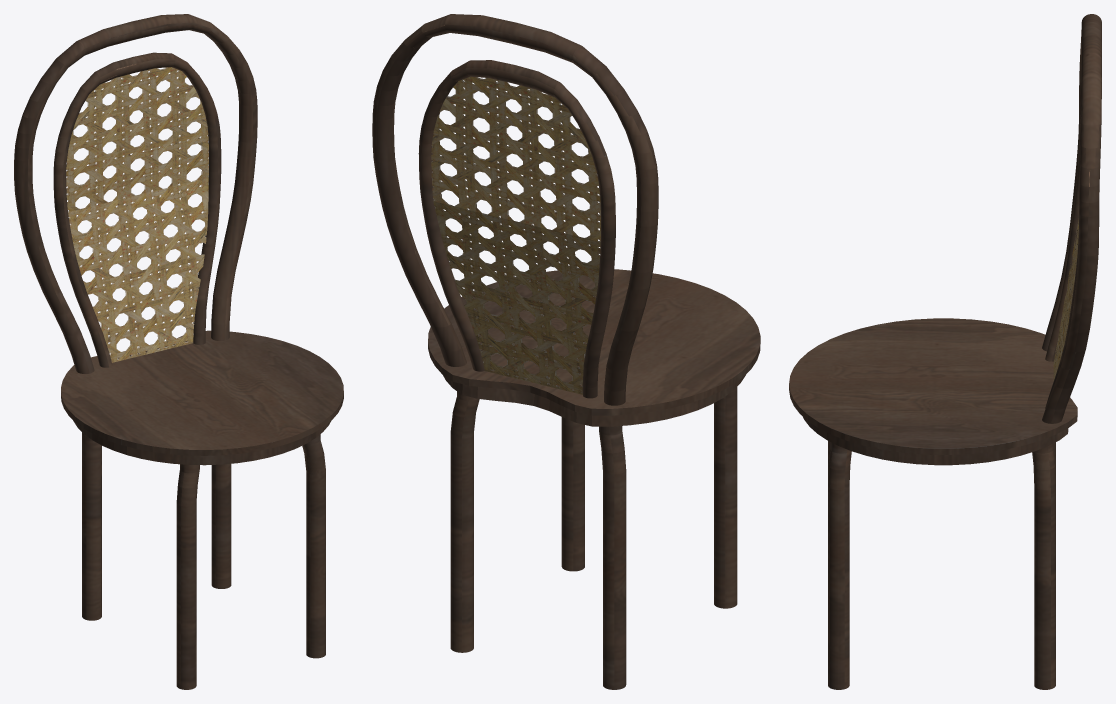
Rendered from barchair.fbx.
The picture shows the model from 3 angles, left to right: view 1: azimuth 30°, elevation 25°; view 2: azimuth 150°, elevation 25°; view 3: azimuth 270°, elevation 25°; orthographic projection. The views are drawn at different scales.
Parts seen in each view (by area): view 1: Base; view 2: Base; view 3: Base.
Boxes of the visible parts, x1,y1,x2,y2 form: Base: (14, 14, 343, 689); Base: (372, 14, 760, 689); Base: (789, 14, 1101, 689).
Size of the model in its own units: 64.32 by 141 by 65.3.
2 materials, 2 textured.
